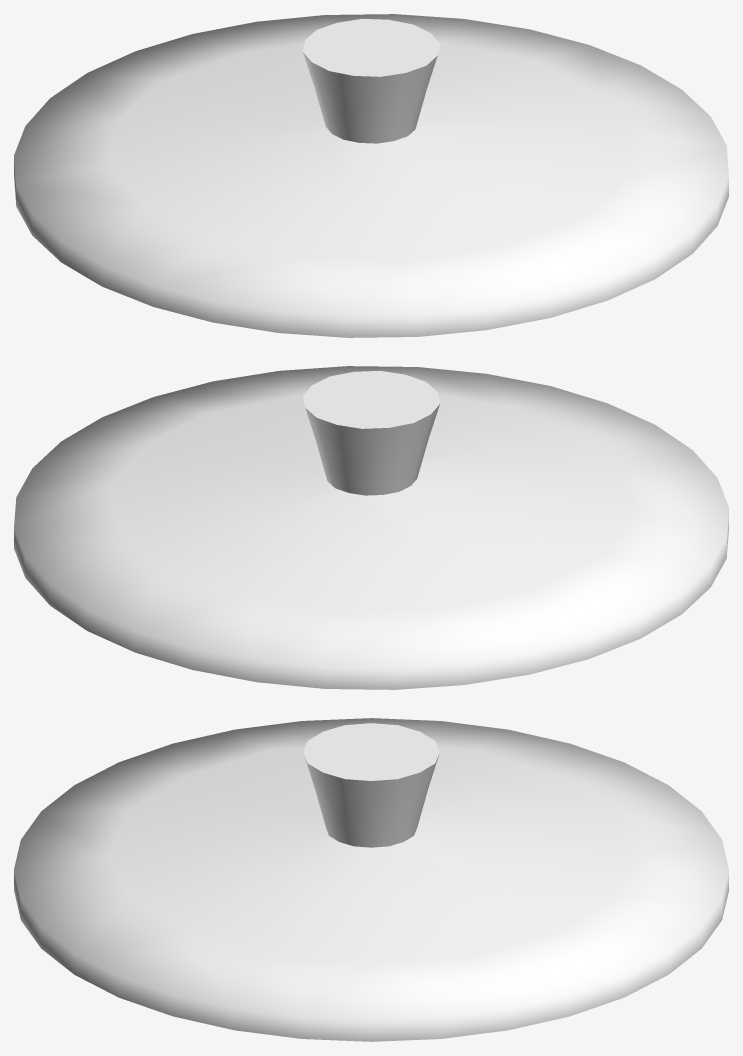
Rendered from ServicePotLid.fbx.
3 views of the same model, one above another, from view 1: azimuth 30°, elevation 25°; view 2: azimuth 150°, elevation 25°; view 3: azimuth 270°, elevation 25° (orthographic).
Visible parts, largest first — view 1: SM_Pot_01_Top_Coockware_0.001; view 2: SM_Pot_01_Top_Coockware_0.001; view 3: SM_Pot_01_Top_Coockware_0.001.
Part boxes in pixels (x1=…): SM_Pot_01_Top_Coockware_0.001: x1=14, y1=14, x2=728, y2=337; SM_Pot_01_Top_Coockware_0.001: x1=14, y1=366, x2=728, y2=689; SM_Pot_01_Top_Coockware_0.001: x1=14, y1=718, x2=728, y2=1041.
Bounding box in the file's own units: 2622 × 561 × 2622.
